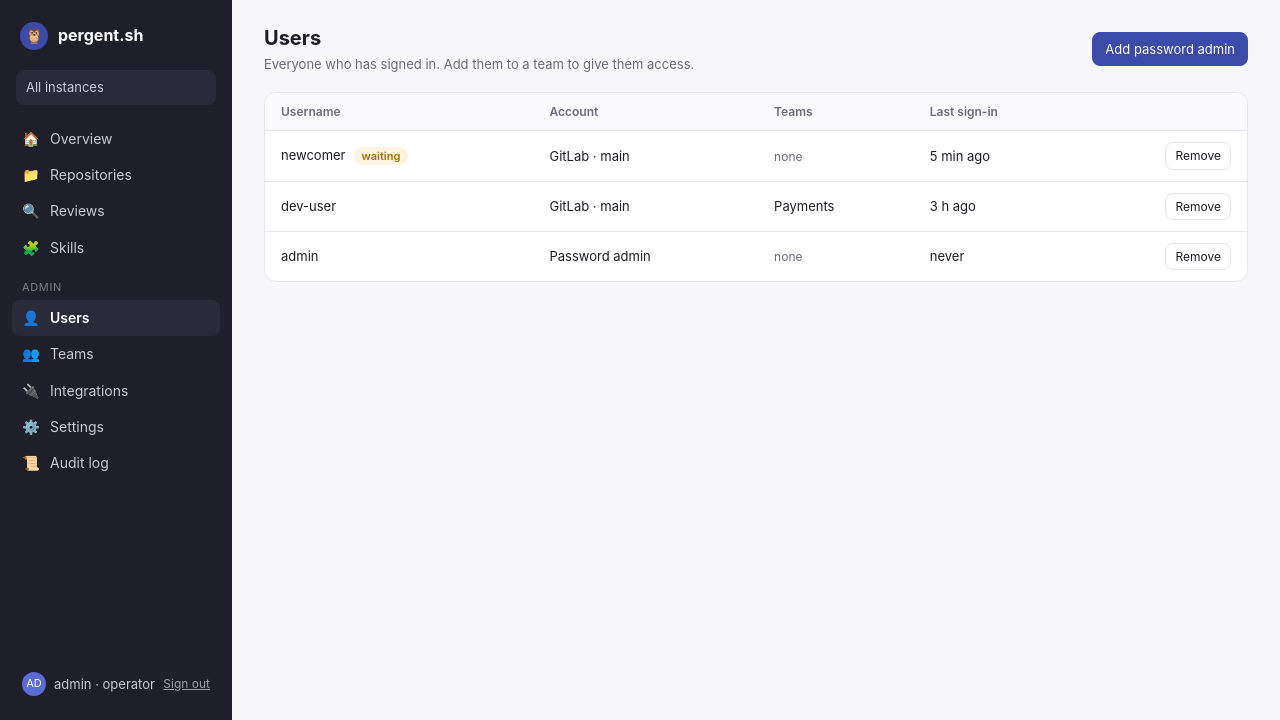
Test case: Users › lets an operator add a password admin and shows the generated password once
The width and height of the screenshot is (1280, 720).
Click the button "Add password admin" at (1170, 49), box left=1092, top=32, right=1248, bottom=66
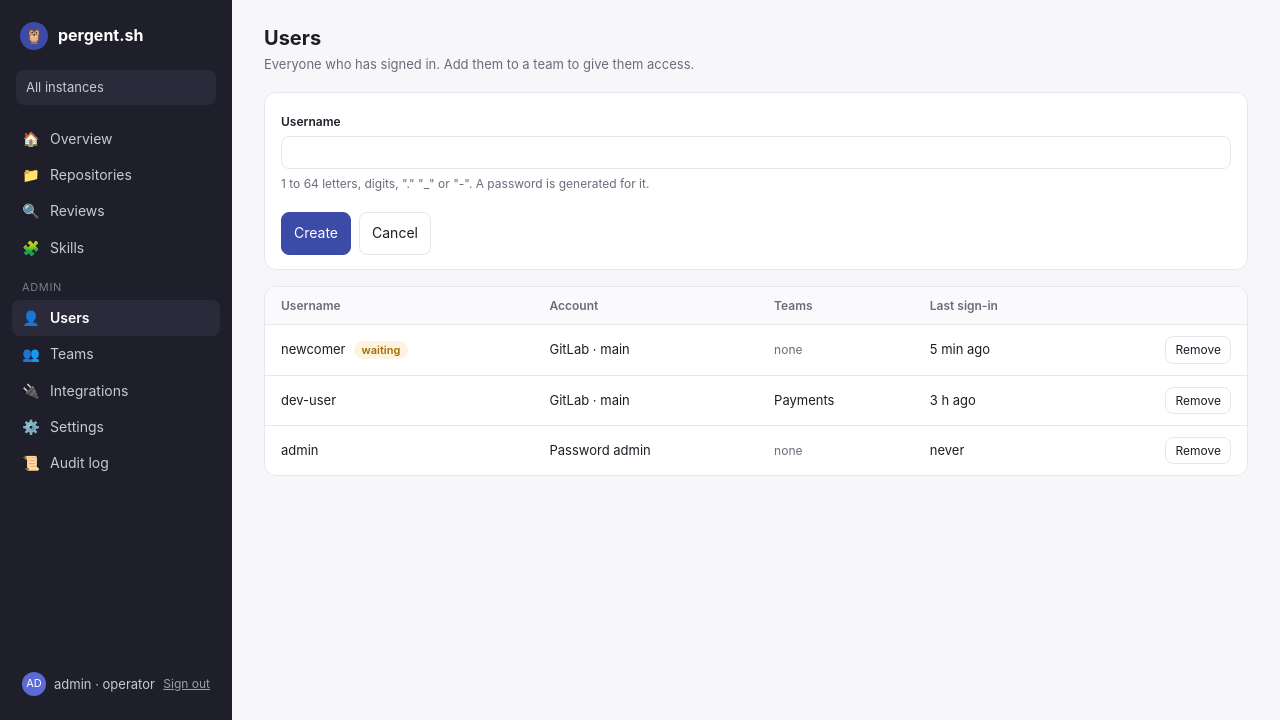
Type "ops2" into the field labelled "Username" at (756, 153), box left=281, top=136, right=1231, bottom=169
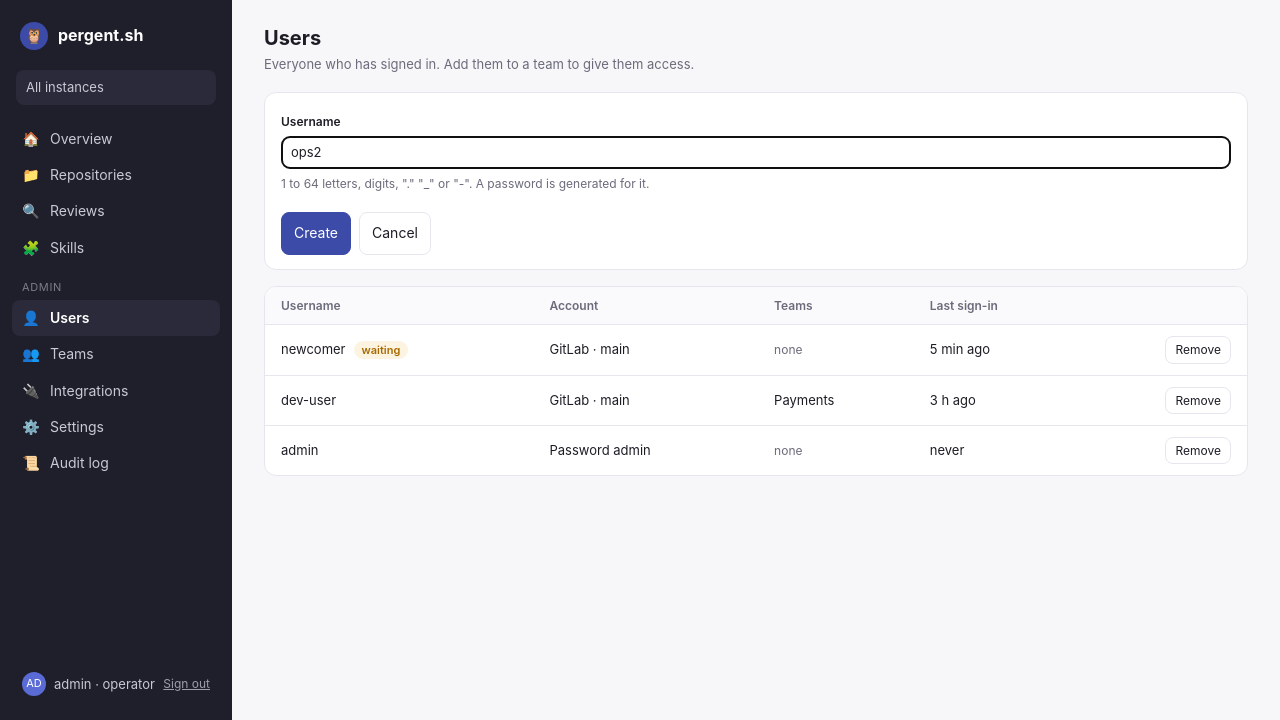
Click the button "Create" at (316, 234), box left=281, top=212, right=351, bottom=255
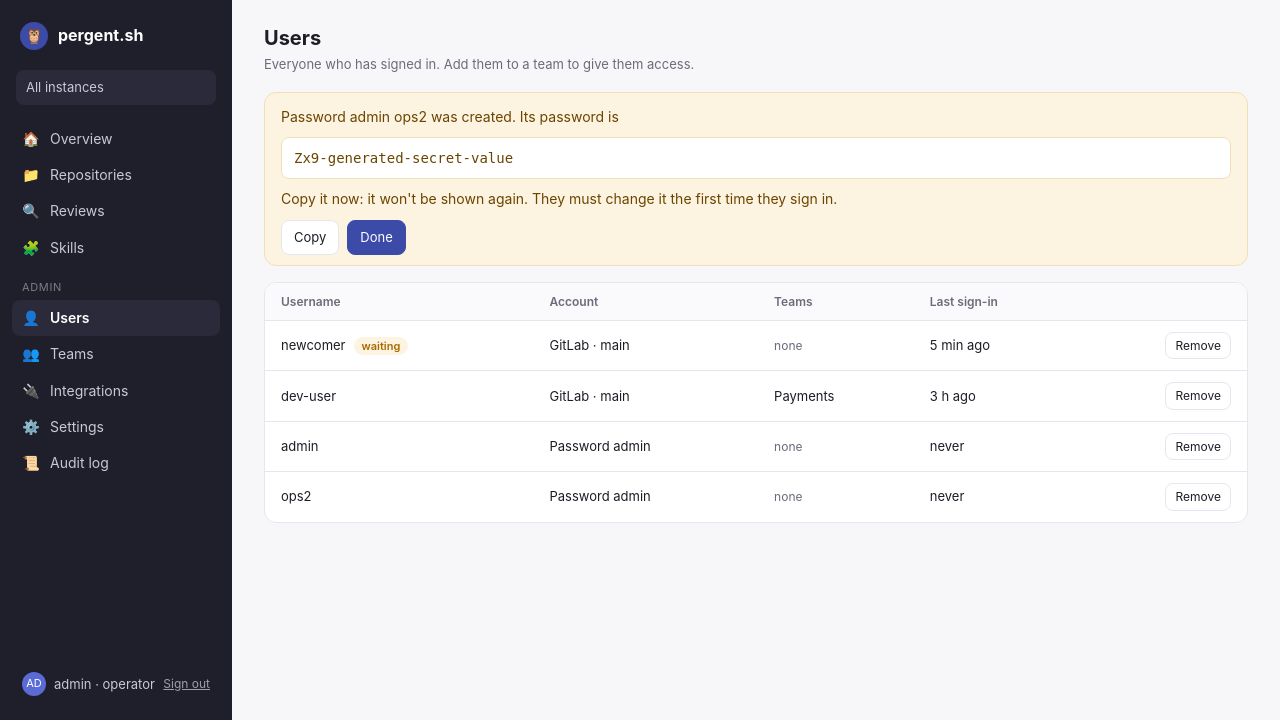
Expected: the element named "New password admin" shows "Zx9-generated-secret-value", left=294, top=150, right=513, bottom=166
Expected: the element named "New password admin" shows "Copy it now: it won't be shown again.", left=281, top=190, right=837, bottom=207
Expected: the text "ops2" is shown, left=265, top=472, right=534, bottom=522
Click the button "Done" at (376, 237), box left=347, top=220, right=406, bottom=254
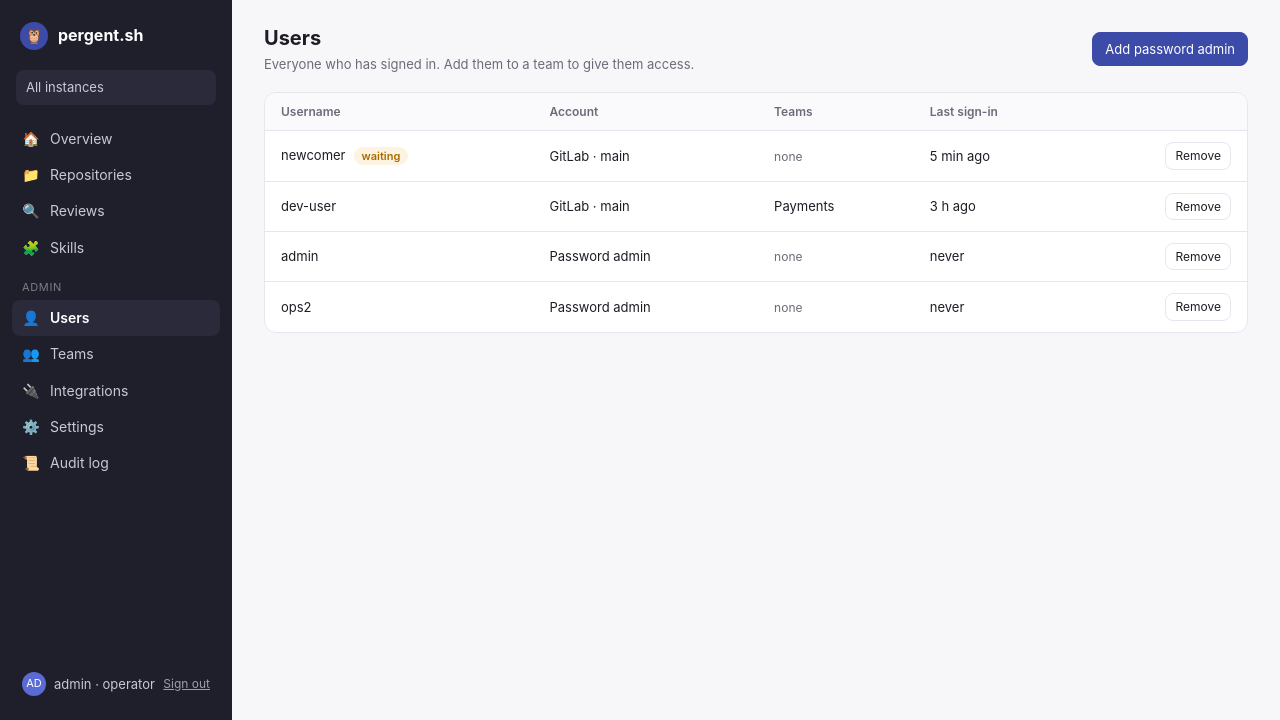
Expected: the text "Zx9-generated-secret-value" is gone
